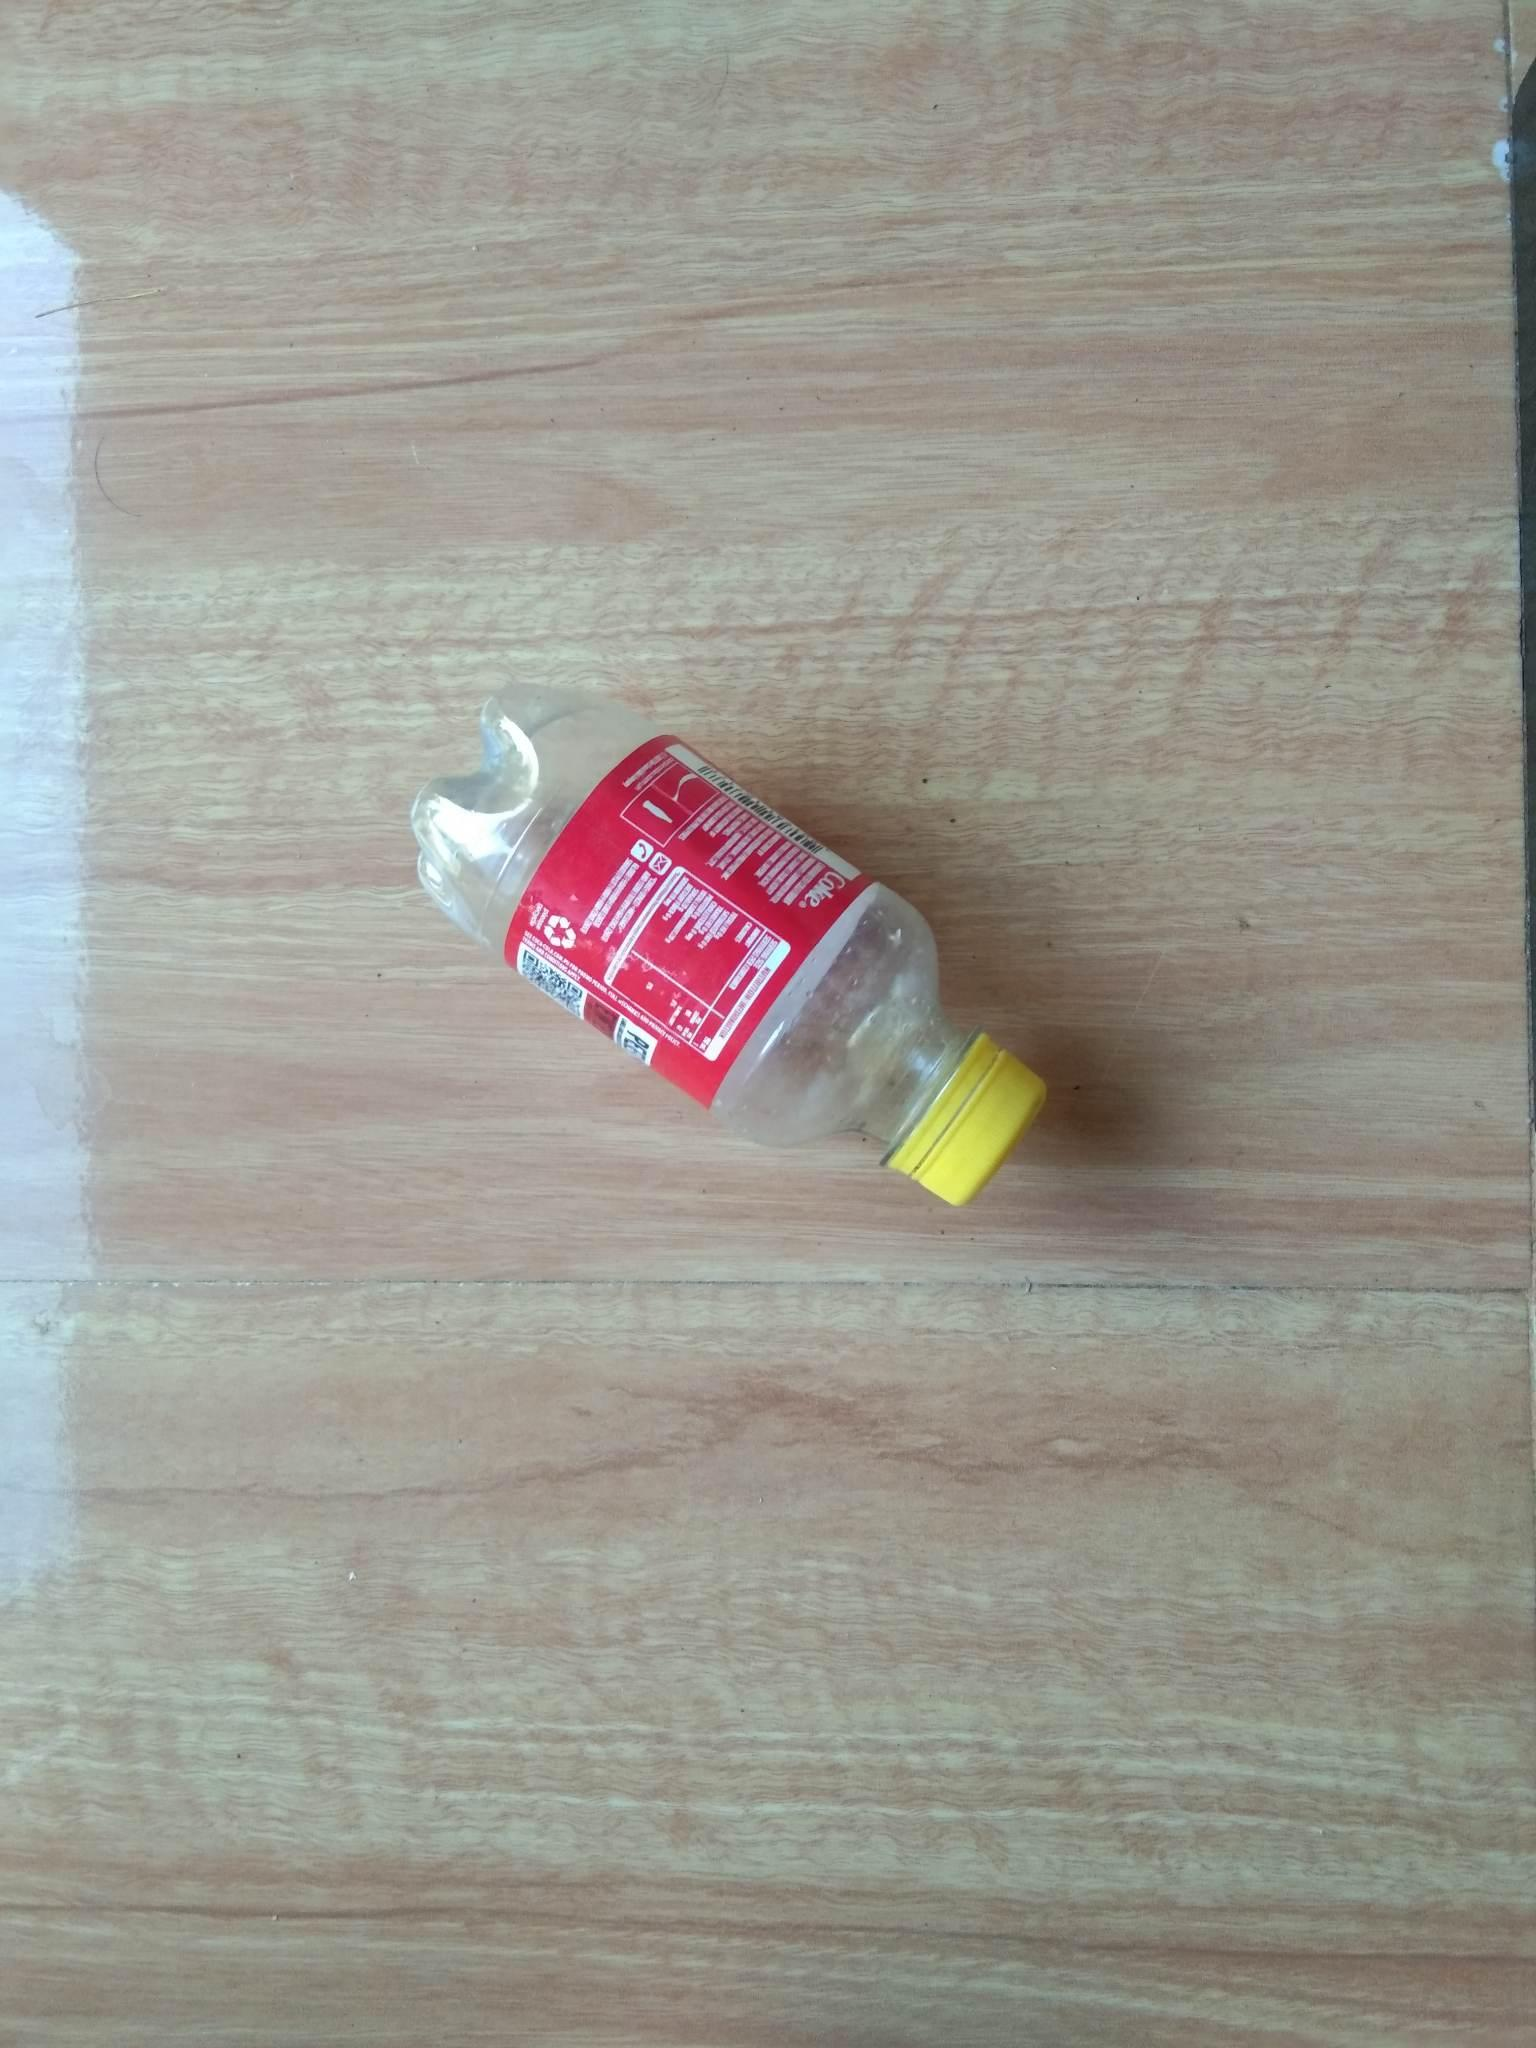plastic: (347, 597, 1125, 1322)
